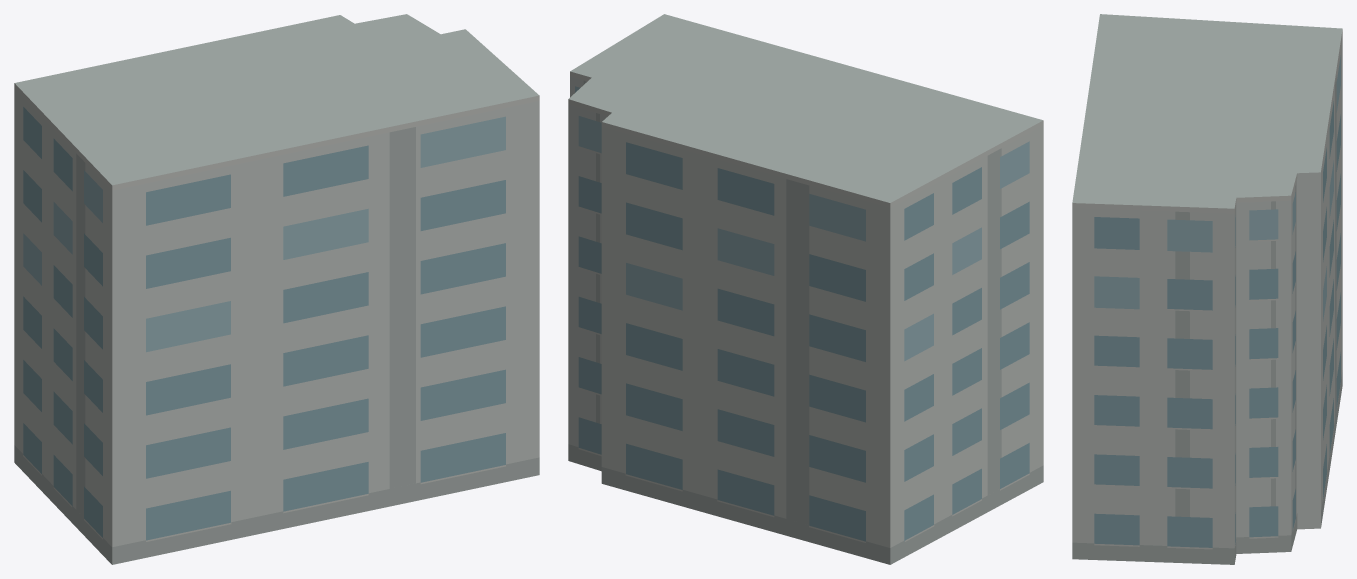
File: survey-upis-32485545.glb
The picture shows the model from 3 angles, left to right: view 1: azimuth 30°, elevation 25°; view 2: azimuth 150°, elevation 25°; view 3: azimuth 270°, elevation 25°; orthographic projection. The views are drawn at different scales.
Parts seen in each view (by area): view 1: survey-upis-32485545.tmp; view 2: survey-upis-32485545.tmp; view 3: survey-upis-32485545.tmp.
Part boxes in pixels (x1=…): survey-upis-32485545.tmp: x1=14, y1=14, x2=539, y2=564; survey-upis-32485545.tmp: x1=568, y1=14, x2=1043, y2=564; survey-upis-32485545.tmp: x1=1072, y1=14, x2=1342, y2=564.
Size of the model in its own units: 20.17 by 17.2 by 11.84.
